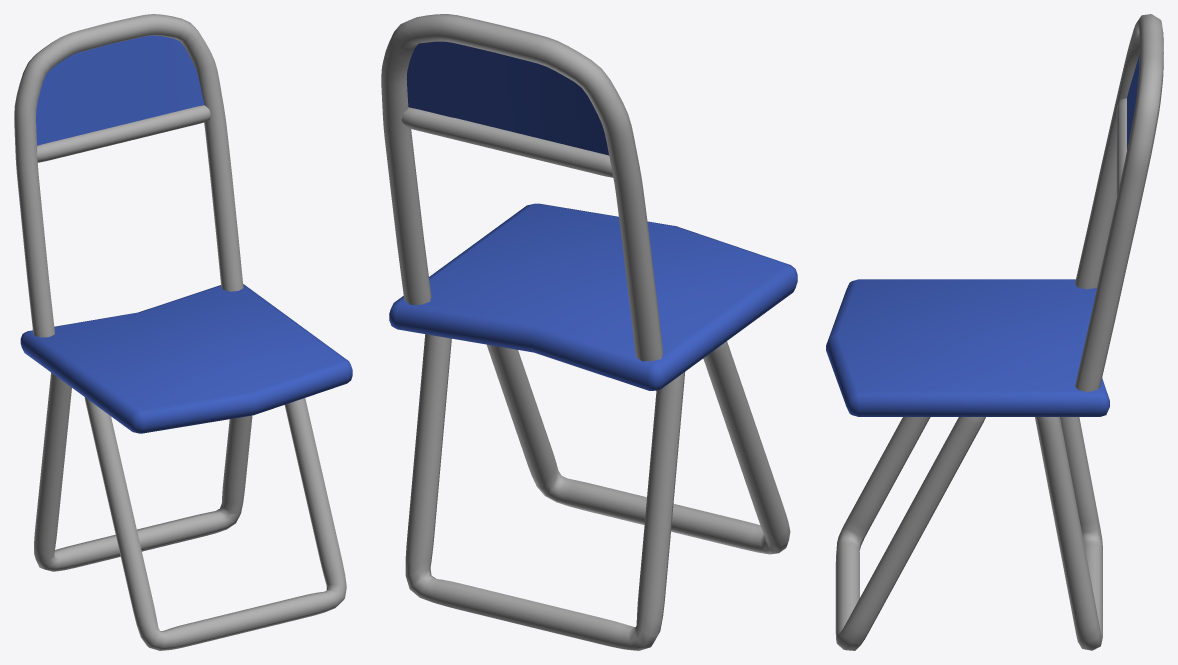
The model's file is Chair.fbx.
3 renders of one model, left to right at view 1: azimuth 30°, elevation 25°; view 2: azimuth 150°, elevation 25°; view 3: azimuth 270°, elevation 25°, orthographic. The views are drawn at different scales.
Visible parts, largest first — view 1: Vert; view 2: Vert; view 3: Vert.
Part boxes in pixels (<box>): Vert: <box>14,14,352,650</box>; Vert: <box>381,14,797,650</box>; Vert: <box>826,14,1163,650</box>.
Size of the model in its own units: 38.4 by 83.97 by 45.42.
